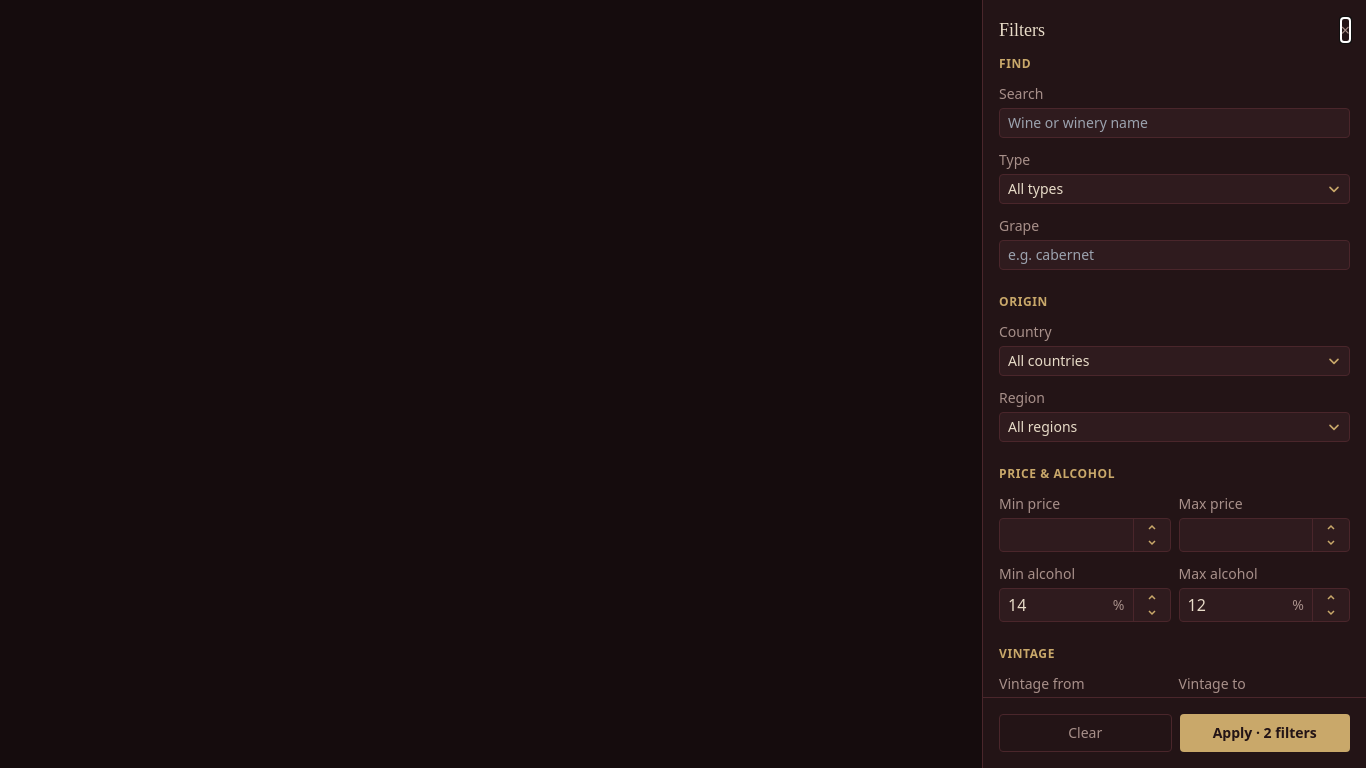
Test case: FilterDrawer › rejects an inverted alcohol range
This screenshot has width=1366, height=768.
Click the button "Apply · 2 filters" at (1265, 733), box top-left (1180, 714), bottom-right (1350, 752)
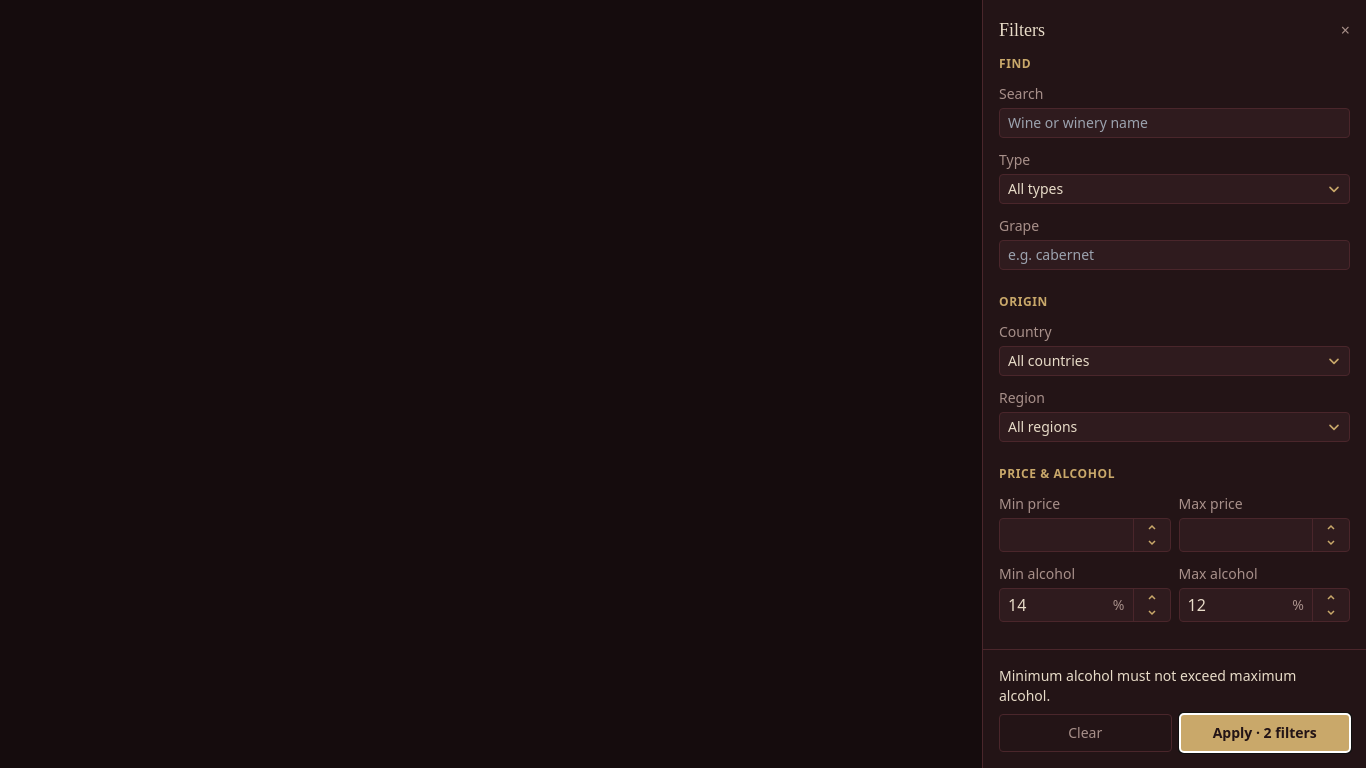
Now the message reads "Minimum alcohol must not exceed maximum alcohol.", box top-left (999, 666), bottom-right (1296, 705)
